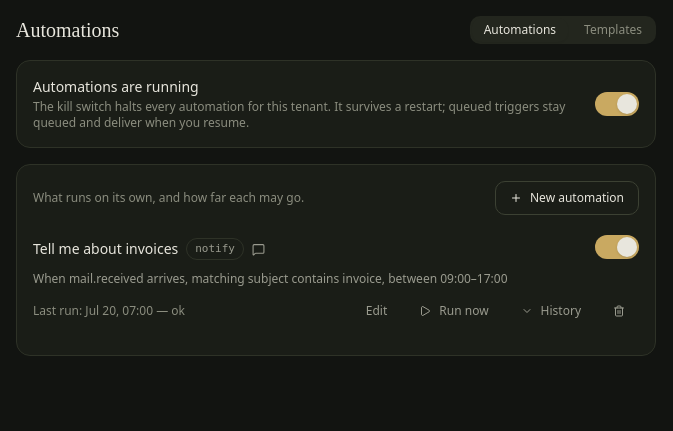
Test case: AutomationsScreen › expands a run history with the observability cross-link
Click the button "History": (551, 311) [507,295,595,327]
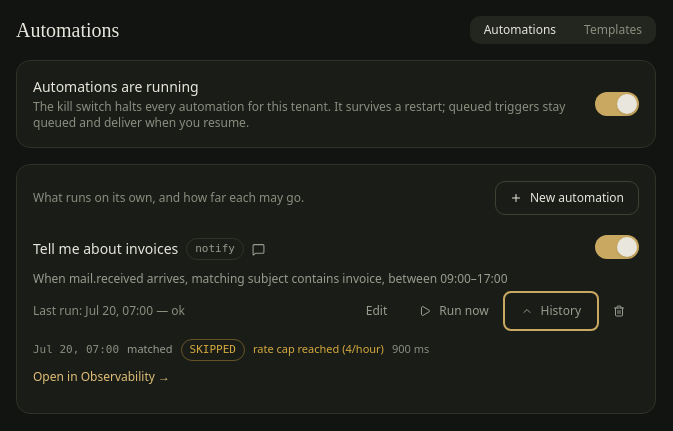
Expected: the text "rate cap reached (4/hour)" is shown, [253,341,384,358]
